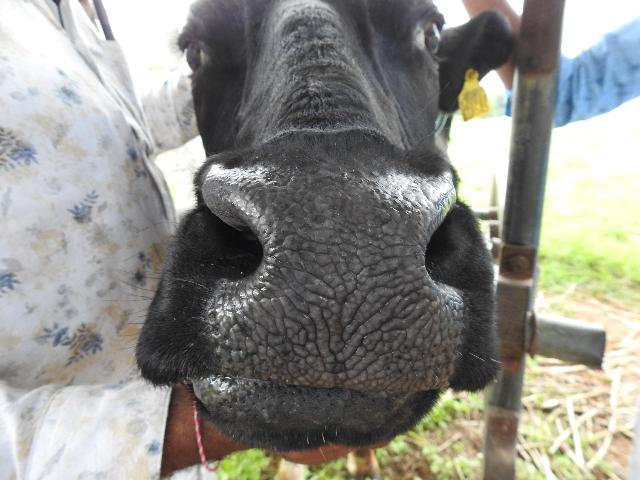Muzzle: (239, 160, 437, 390)
